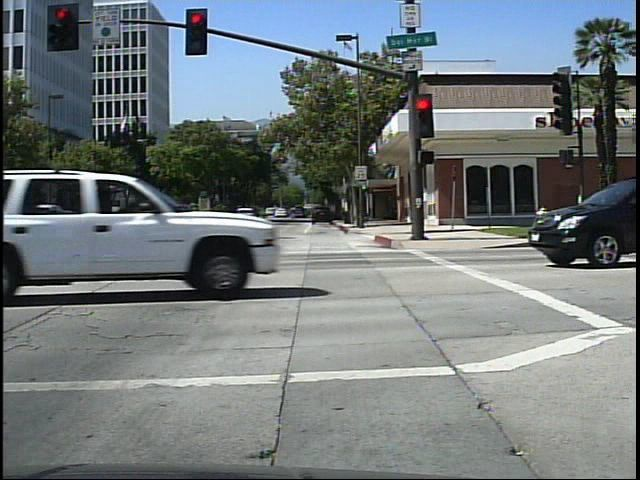person: (287, 203, 300, 221)
